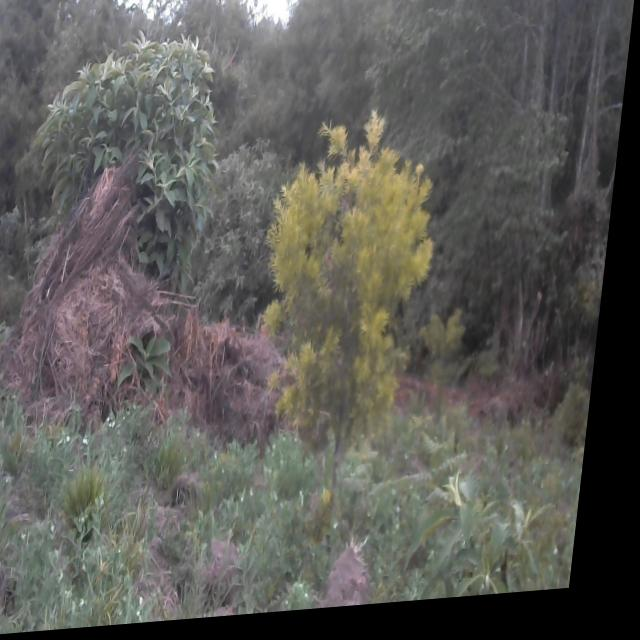Podocarpus falcatus: (245, 105, 453, 573)
